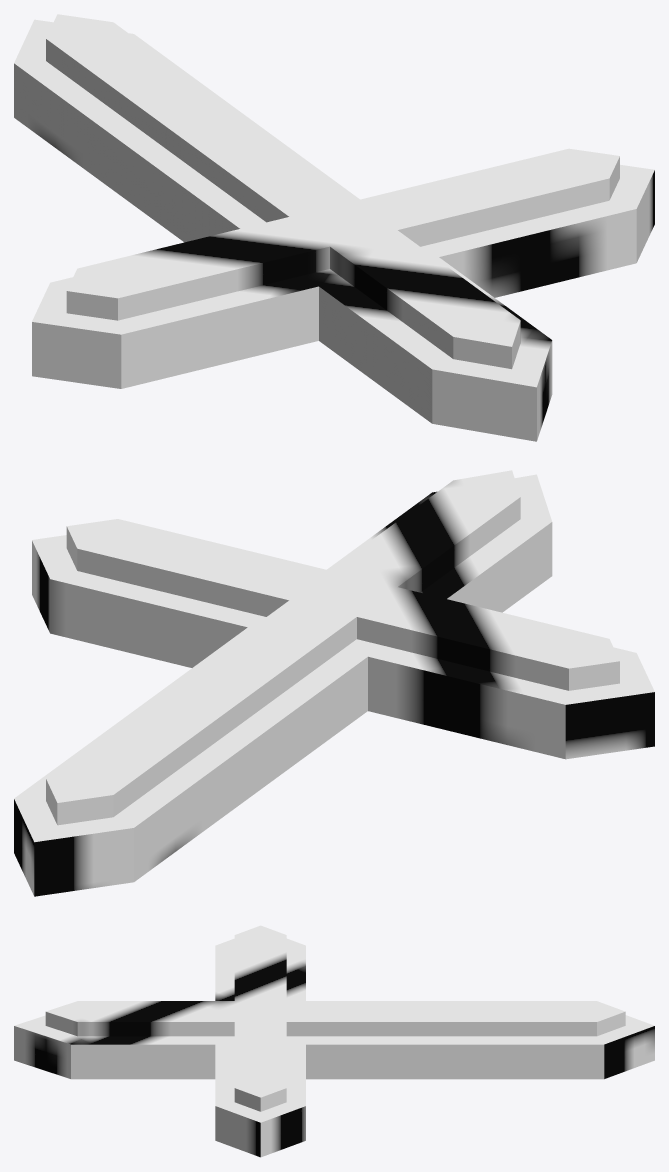
File: Cross.obj
3 renders of one model, top to bottom at view 1: azimuth 30°, elevation 25°; view 2: azimuth 150°, elevation 25°; view 3: azimuth 270°, elevation 25°, orthographic. The views are drawn at different scales.
Visible parts, largest first — view 1: Plane_Plane.027; view 2: Plane_Plane.027; view 3: Plane_Plane.027.
Boxes of the visible parts, x1,y1,x2,y2 form: Plane_Plane.027: (14, 14, 654, 441); Plane_Plane.027: (14, 470, 654, 896); Plane_Plane.027: (14, 925, 654, 1157).
Size of the model in its own units: 0.3316 by 0.039 by 0.4631.
